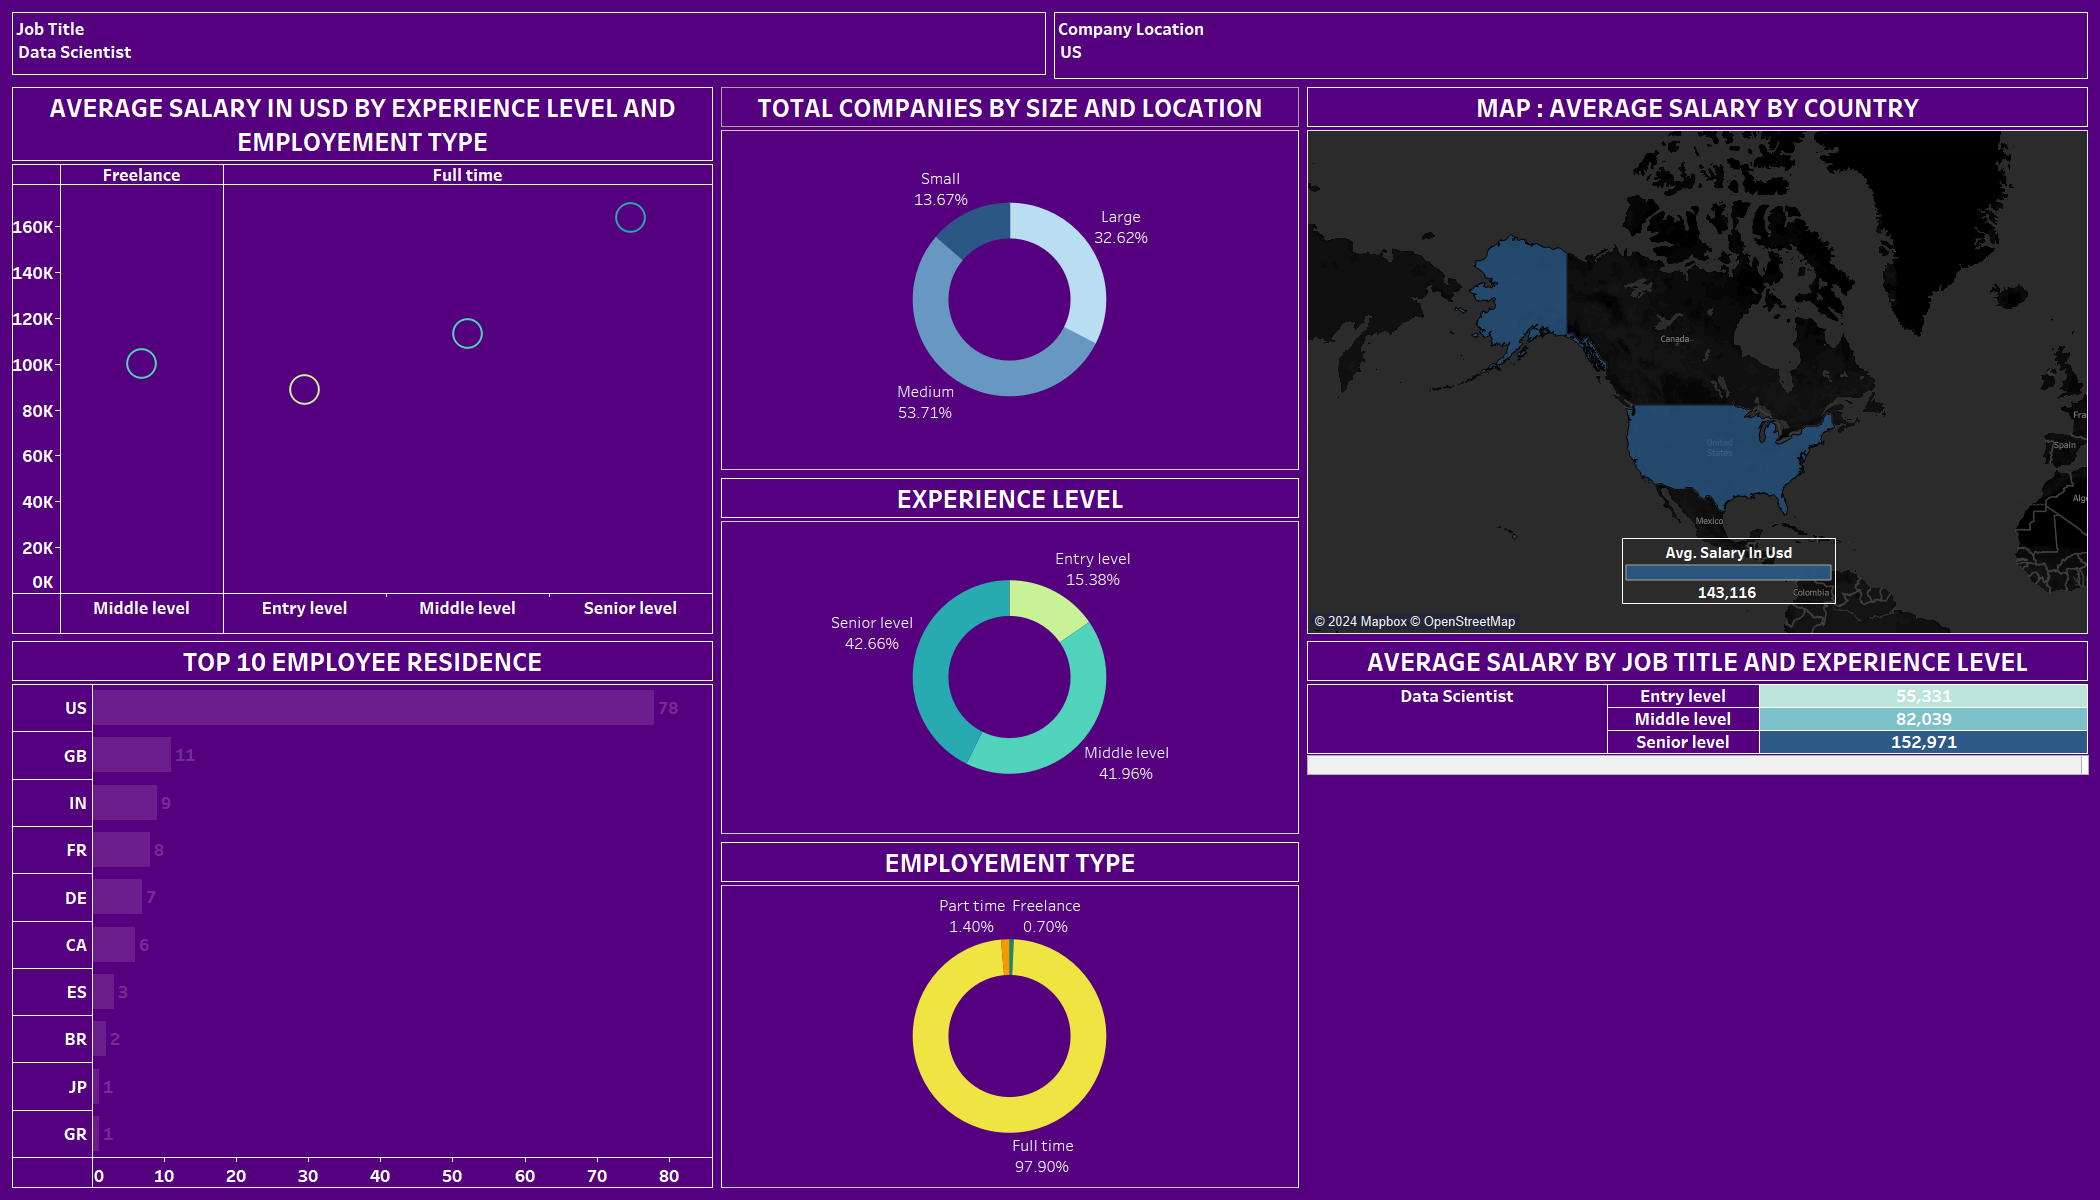

Layout of this report page (visuals, bound fields, positions):
{"tool":"tableau","page":{"name":"Dashboard 1","canvas":[2100,1200],"ordinal":0},"visuals":[{"type":"filter","title":"AVERAGE SALARY IN USD BY EXPERIENCE LEVEL AND EMPLOYEMENT TYPE","param":"[federated.18qjr991hgh87i1df9q1g0aa2dt3].[none:job_title:nk]","box":[8,8,1042,71]},{"type":"filter","title":"AVERAGE SALARY IN USD BY EXPERIENCE LEVEL AND EMPLOYEMENT TYPE","param":"[federated.18qjr991hgh87i1df9q1g0aa2dt3].[none:company_location:nk]","box":[1050,8,1042,75]},{"type":"worksheet","title":"AVERAGE SALARY IN USD BY EXPERIENCE LEVEL AND EMPLOYEMENT TYPE","mark":"Shape","rows":["salary_in_usd"],"cols":["employment_type","experience_level"],"box":[8,83,709,554.5]},{"type":"worksheet","title":"TOTAL COMPANIES BY SIZE AND LOCATION","mark":"Pie","rows":["Calculation_1194016874075459585","Calculation_1194016874075459585"],"box":[717,83,586,391]},{"type":"worksheet","title":"MAP : AVERAGE SALARY BY COUNTRY","mark":"Automatic","box":[1303,83,789,554.5]},{"type":"worksheet","title":"EXPERIENCE LEVEL","mark":"Pie","rows":["Calculation_1194016874075459585","Calculation_1194016874075459585"],"box":[717,474,586,364]},{"type":"legend","title":"MAP : AVERAGE SALARY BY COUNTRY","param":"[federated.18qjr991hgh87i1df9q1g0aa2dt3].[avg:salary_in_usd:qk]","box":[1622,538,214,88]},{"type":"worksheet","title":"TOP 10 EMPLOYEE RESIDENCE","mark":"Automatic","rows":["employee_residence"],"cols":["employee_residence"],"box":[8,637.5,709,554.5]},{"type":"worksheet","title":"AVERAGE SALARY BY JOB TITLE AND EXPERIENCE LEVEL","mark":"Square","rows":["job_title","experience_level"],"box":[1303,637.5,789,554.5]},{"type":"worksheet","title":"EMPLOYEMENT TYPE","mark":"Pie","rows":["Calculation_1194016874075459585","Calculation_1194016874075459585"],"box":[717,838,586,354]}]}

Visuals, with their boxes in screenshot pixels (x1, y1, x2, y2), scaled from the page's 2100x1200 canvas onto the 2100x1200 screenshot:
"AVERAGE SALARY IN USD BY EXPERIENCE LEVEL AND EMPLOYEMENT TYPE" filter: (8, 8, 1050, 79)
"AVERAGE SALARY IN USD BY EXPERIENCE LEVEL AND EMPLOYEMENT TYPE" filter: (1050, 8, 2092, 83)
"AVERAGE SALARY IN USD BY EXPERIENCE LEVEL AND EMPLOYEMENT TYPE" worksheet (Shape marks): (8, 83, 717, 638)
"TOTAL COMPANIES BY SIZE AND LOCATION" worksheet (Pie marks): (717, 83, 1303, 474)
"MAP : AVERAGE SALARY BY COUNTRY" worksheet: (1303, 83, 2092, 638)
"EXPERIENCE LEVEL" worksheet (Pie marks): (717, 474, 1303, 838)
"MAP : AVERAGE SALARY BY COUNTRY" legend: (1622, 538, 1836, 626)
"TOP 10 EMPLOYEE RESIDENCE" worksheet: (8, 638, 717, 1192)
"AVERAGE SALARY BY JOB TITLE AND EXPERIENCE LEVEL" worksheet (Square marks): (1303, 638, 2092, 1192)
"EMPLOYEMENT TYPE" worksheet (Pie marks): (717, 838, 1303, 1192)
